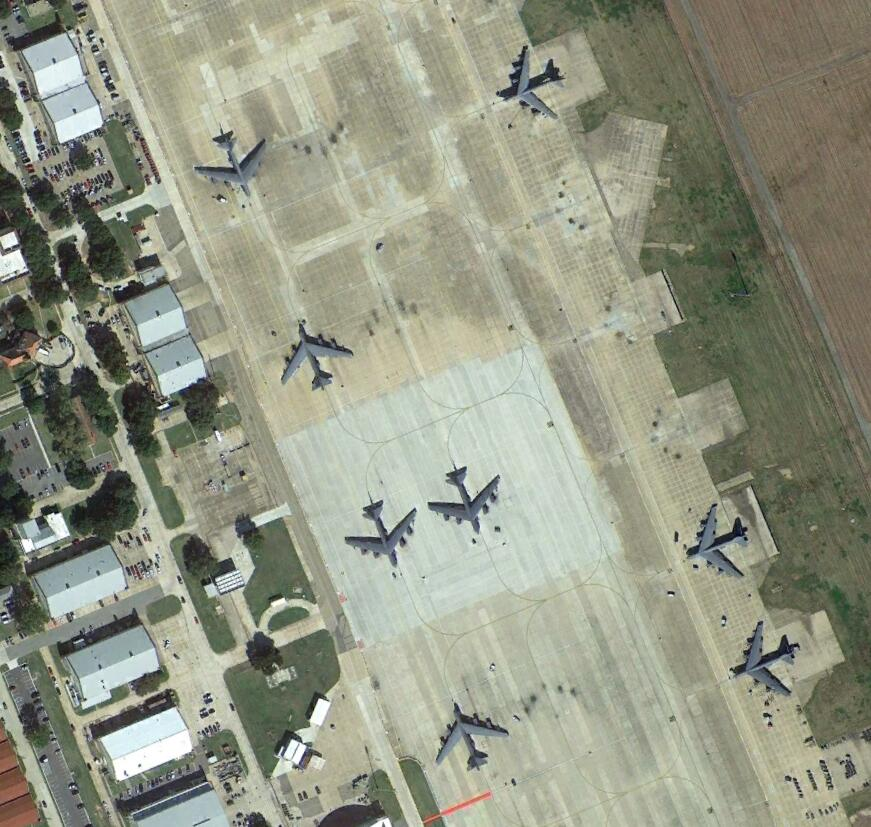A8: (431, 699, 513, 776), (495, 44, 574, 123), (682, 500, 754, 584), (731, 616, 801, 701), (343, 498, 421, 573), (275, 324, 357, 395), (426, 464, 503, 536), (194, 128, 273, 198)
